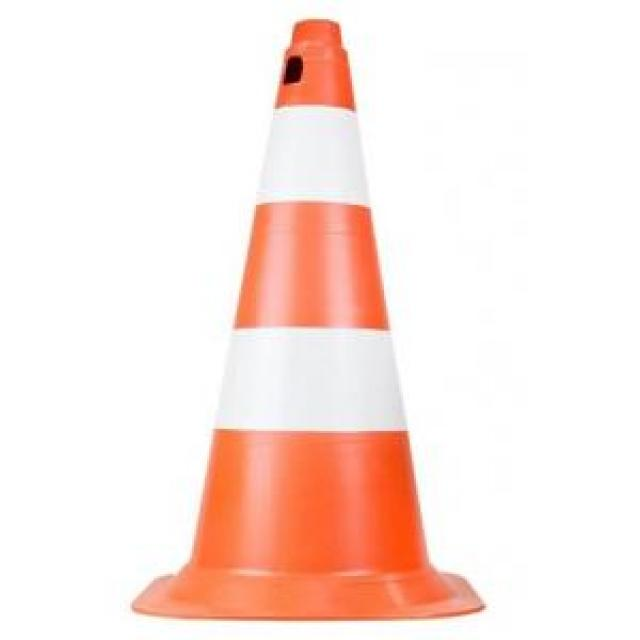cone: (119, 9, 494, 618)
